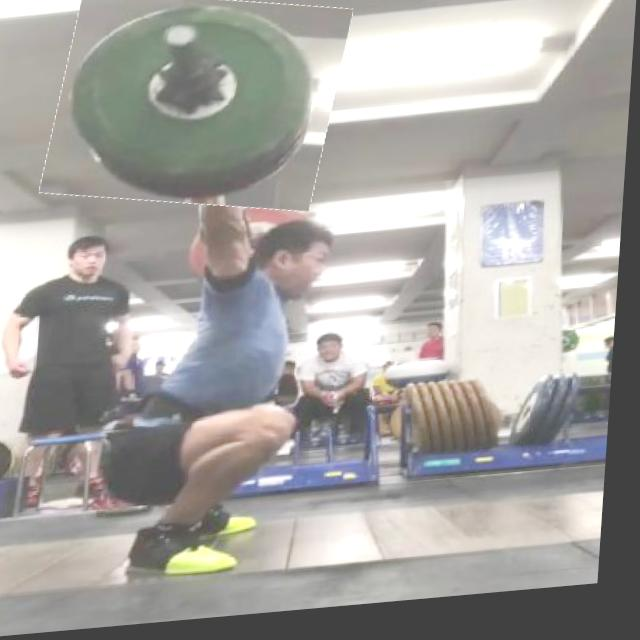barbell: (48, 1, 349, 227)
